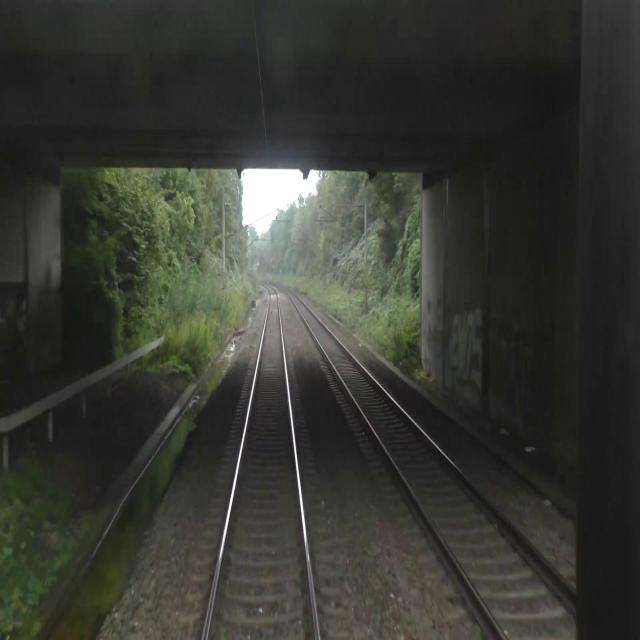rail-track: (287, 289, 614, 639), (208, 287, 315, 639)
